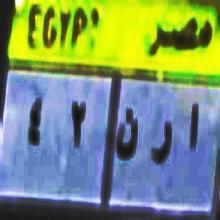2: (65, 94, 91, 152)
4: (22, 98, 47, 157)
alif: (182, 96, 205, 158)
noon: (113, 102, 141, 172)
raa: (150, 114, 174, 169)
